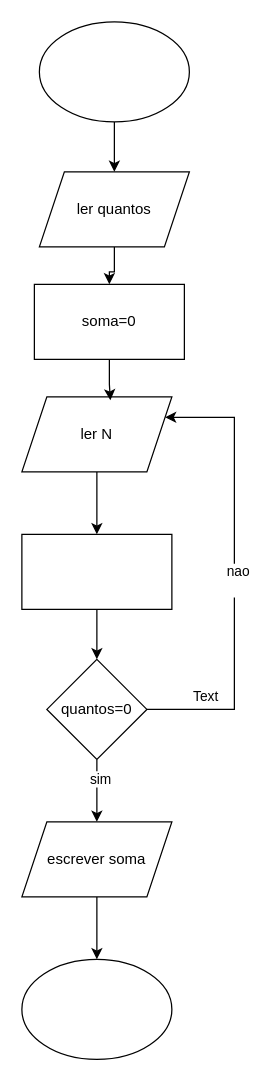
This 270x1081 diagram has some shape labels left out. The shapes that lost their labels are listed below. From the top down, each one's centre as x and y in pixels, then its label:
(113,71): inicio
(96,571): soma=+N quantos=quantos-1
(96,1008): fim
